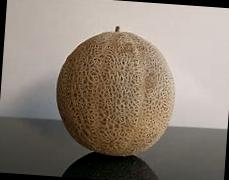Melon Ripe: (50, 21, 179, 159)
